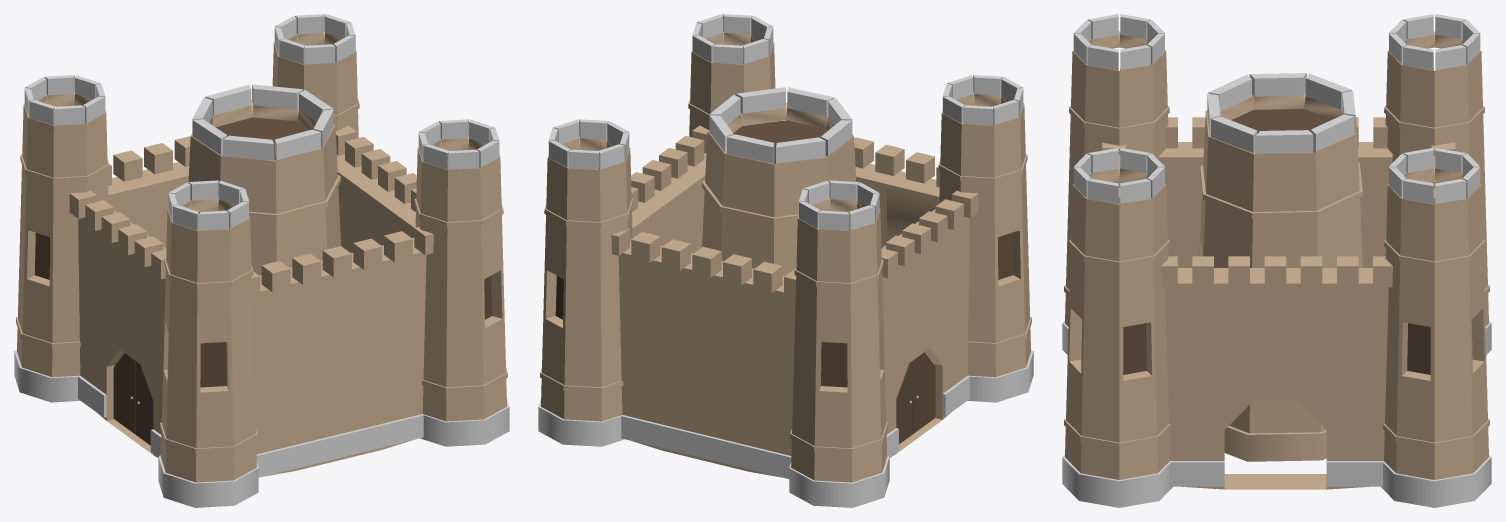
File: 7a860662-1671-4bf4-b014-2a152cef28a1.glb
The picture shows the model from 3 angles, left to right: view 1: azimuth 30°, elevation 25°; view 2: azimuth 150°, elevation 25°; view 3: azimuth 270°, elevation 25°; orthographic projection. The views are drawn at different scales.
Parts seen in each view (by area): view 1: Box20222, Cylinder020, Cylinder025, Cylinder023, Cylinder015, Box20253, Cylinder027, Box20249, Box20240, Box20231, Cylinder021, Cylinder026 (+20 smaller); view 2: Box20231, Cylinder023, Cylinder027, Cylinder020, Cylinder015, Box20253, Cylinder025, Box20230, Box20249, Box20222, Cylinder022, Cylinder024 (+20 smaller); view 3: Box20249, Cylinder027, Cylinder025, Cylinder015, Cylinder023, Cylinder020, Box20253, Cylinder026, Cylinder024, Cylinder017, Cylinder018, Box20221 (+8 smaller).
Boxes of the visible parts, bbox=[...] form: Box20222: bbox=[252, 238, 426, 476]; Cylinder020: bbox=[160, 180, 257, 482]; Cylinder025: bbox=[414, 119, 507, 421]; Cylinder023: bbox=[16, 75, 109, 377]; Cylinder015: bbox=[188, 84, 340, 275]; Box20253: bbox=[78, 210, 166, 457]; Cylinder027: bbox=[272, 14, 359, 138]; Box20249: bbox=[337, 154, 415, 252]; Box20240: bbox=[256, 414, 423, 477]; Box20231: bbox=[108, 162, 189, 247]; Cylinder021: bbox=[158, 455, 258, 507]; Cylinder026: bbox=[420, 399, 509, 446]; Box20231: bbox=[618, 238, 795, 476]; Cylinder023: bbox=[790, 180, 887, 482]; Cylinder027: bbox=[540, 119, 633, 421]; Cylinder020: bbox=[938, 75, 1031, 377]; Cylinder015: bbox=[702, 87, 856, 275]; Box20253: bbox=[882, 209, 969, 457]; Cylinder025: bbox=[688, 14, 775, 137]; Box20230: bbox=[621, 415, 791, 478]; Box20249: bbox=[632, 153, 706, 253]; Box20222: bbox=[855, 163, 939, 247]; Cylinder022: bbox=[789, 455, 889, 507]; Cylinder024: bbox=[538, 399, 624, 446]; Box20249: bbox=[1165, 268, 1388, 489]; Cylinder027: bbox=[1383, 147, 1489, 479]; Cylinder025: bbox=[1064, 147, 1170, 479]; Cylinder015: bbox=[1199, 73, 1362, 433]; Cylinder023: bbox=[1384, 14, 1489, 326]; Cylinder020: bbox=[1064, 14, 1169, 326]; Box20253: bbox=[1157, 142, 1392, 267]; Cylinder026: bbox=[1062, 455, 1172, 507]; Cylinder024: bbox=[1381, 455, 1491, 507]; Cylinder017: bbox=[1224, 425, 1326, 461]; Cylinder018: bbox=[1231, 109, 1331, 133]; Box20221: bbox=[1327, 461, 1382, 486].
Size of the model in its own units: 588 by 484 by 586.
